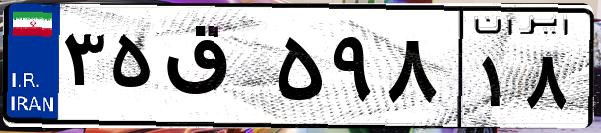1: (475, 38, 525, 113)
3: (57, 26, 110, 100)
5: (270, 28, 330, 110), (110, 28, 158, 98)
8: (385, 28, 445, 110), (525, 38, 570, 115)
9: (330, 28, 385, 110)
ق: (158, 20, 270, 120)
